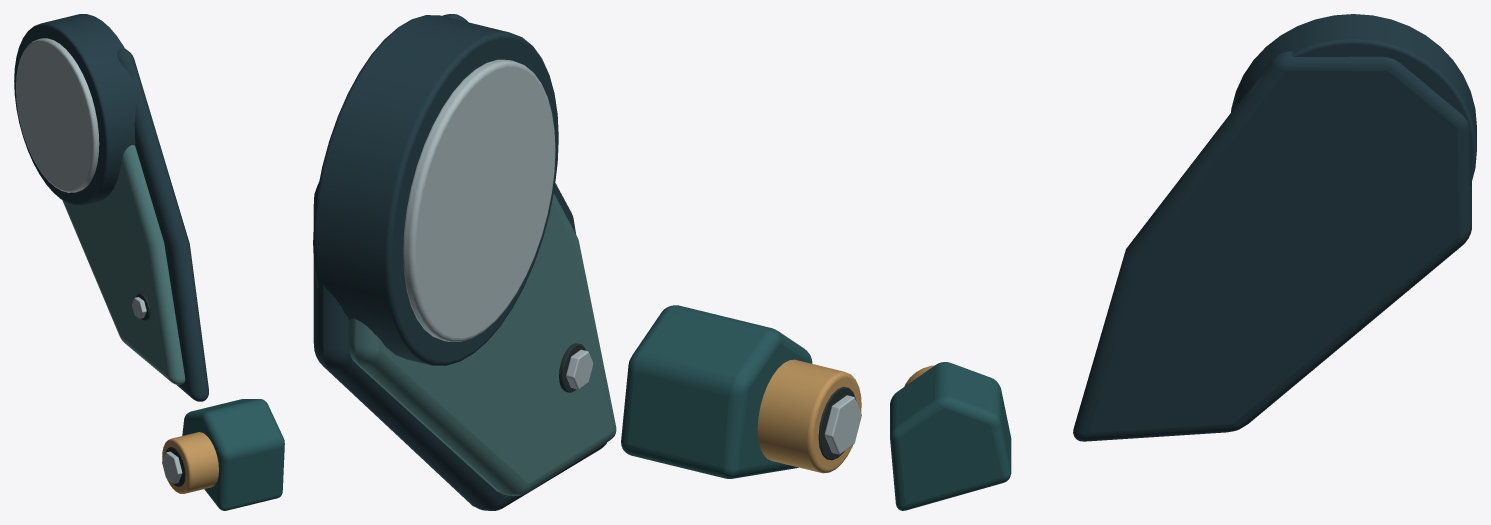
File: SM_Mk2_GuardMount_L.fbx
3 renders of one model, left to right at view 1: azimuth 30°, elevation 25°; view 2: azimuth 150°, elevation 25°; view 3: azimuth 270°, elevation 25°, orthographic. The views are drawn at different scales.
Parts seen in each view (by area): view 1: SM_Mk2_GuardMount_L; view 2: SM_Mk2_GuardMount_L; view 3: SM_Mk2_GuardMount_L.
Part boxes in pixels (left/top/right/bottom): SM_Mk2_GuardMount_L: left=14, top=14, right=284, bottom=510; SM_Mk2_GuardMount_L: left=313, top=14, right=861, bottom=510; SM_Mk2_GuardMount_L: left=890, top=14, right=1476, bottom=510.
Bounding box in the file's own units: 12.5 × 48.44 × 42.6.
